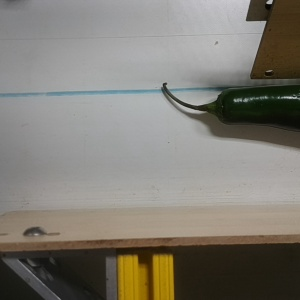Cut Point: (204, 83, 240, 129)
